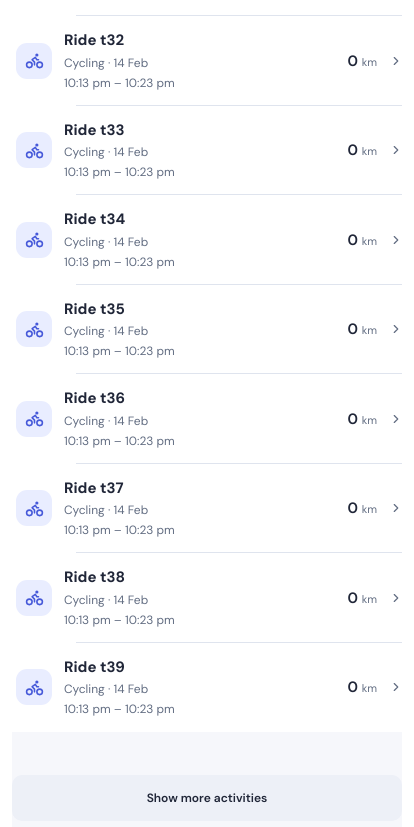
Test case: renders one page of activities and appends the next page on demand
(page scrolled)
Click the button "Show more activities".
click(207, 798)  # box [12,775,402,821]
(page scrolled)
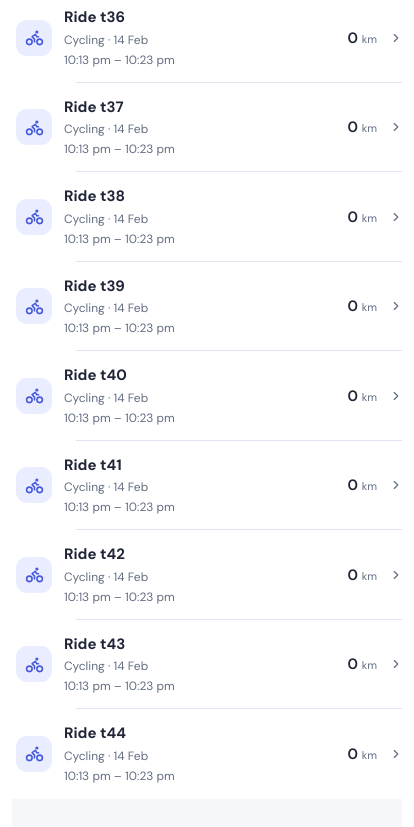
Check: the button with aria-label "Open Ride t44" is shown, box [16,724,377,784]
Check: the button "Show more activities" is gone
